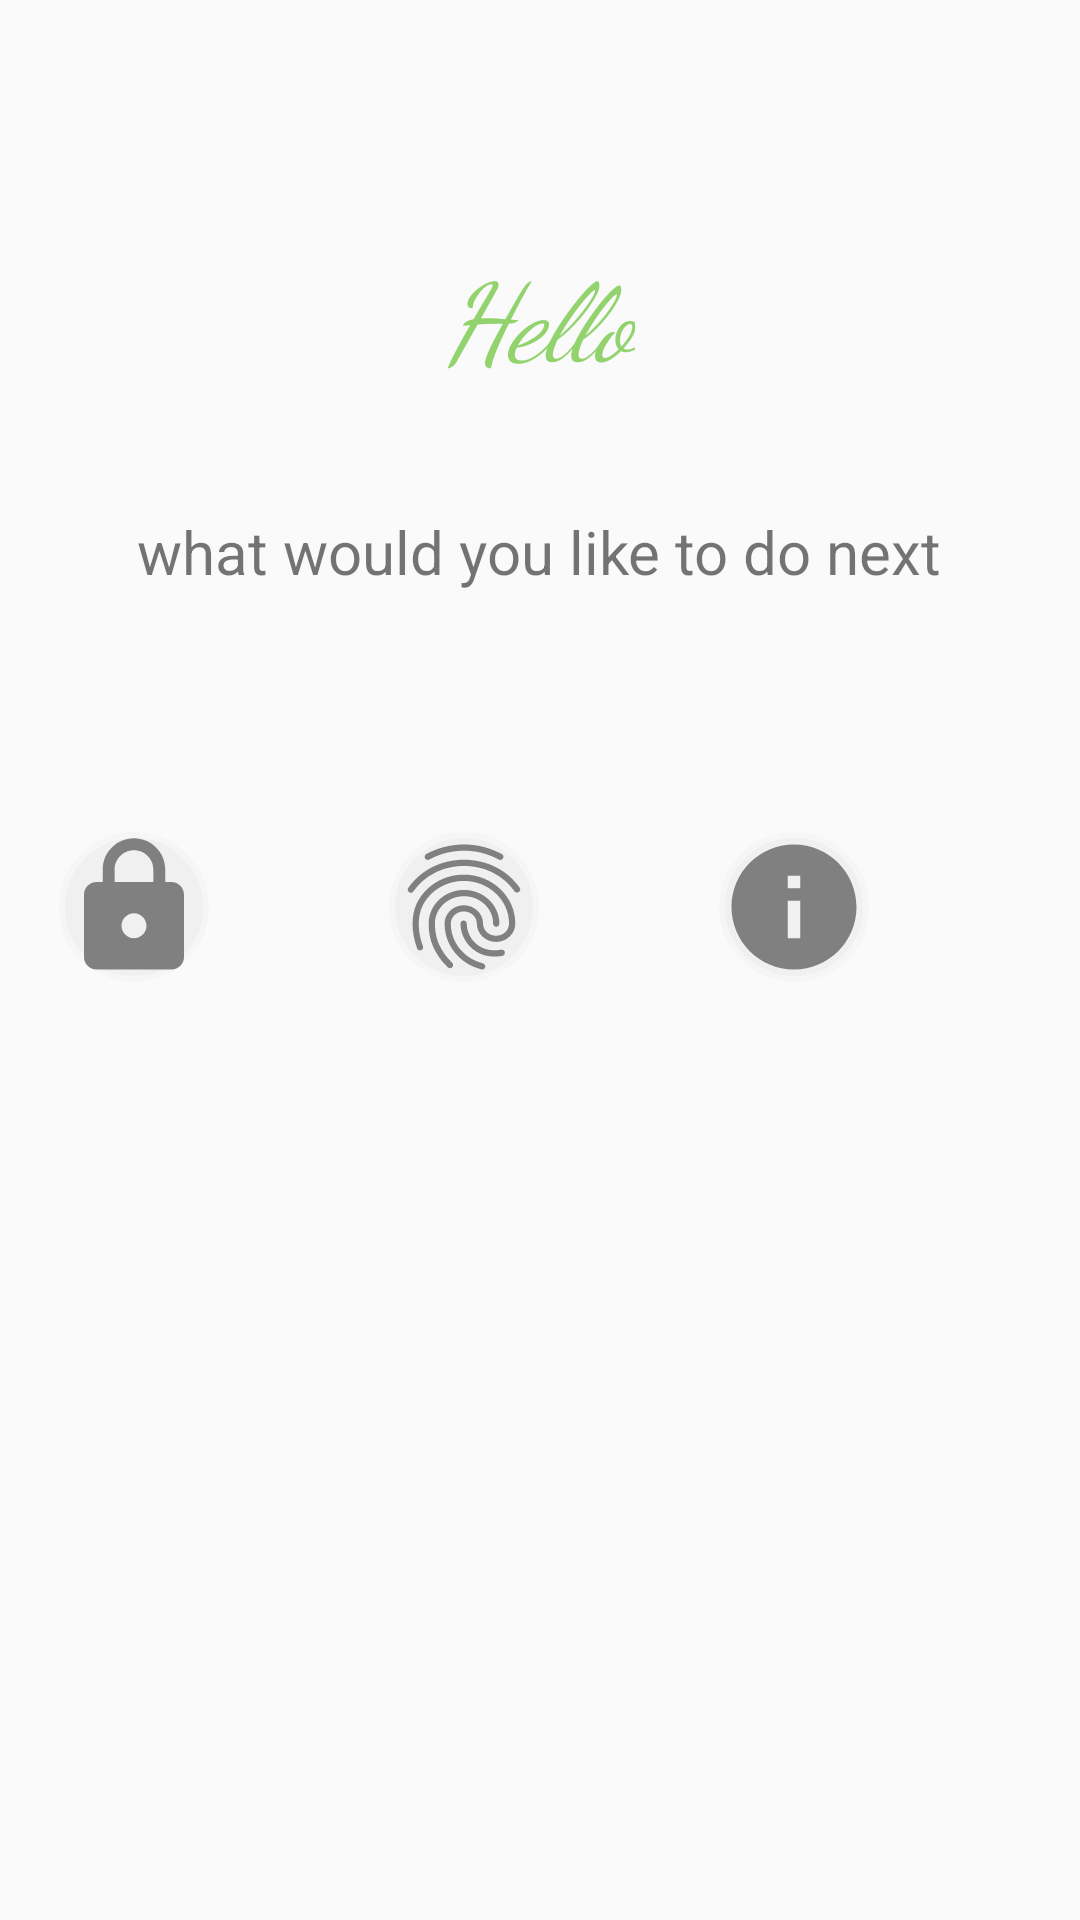

Icons on this 1080 x 1920 Android screen, each with the point to tap as [x,y]:
fprint: [464,907]
info: [794,907]
lock: [134,904]
